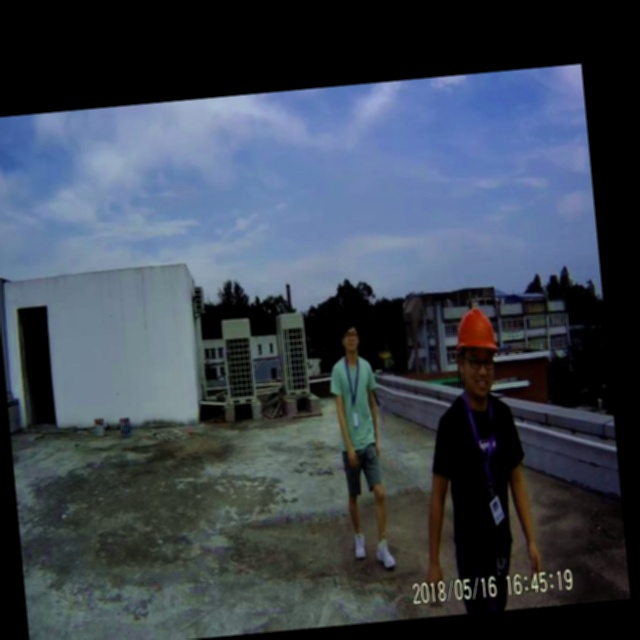Con_Casco: (454, 307, 499, 393)
Sin_Casco_Mascarrilla: (339, 317, 360, 354)
Sin_Chaleco: (435, 391, 533, 570), (328, 354, 383, 455)
